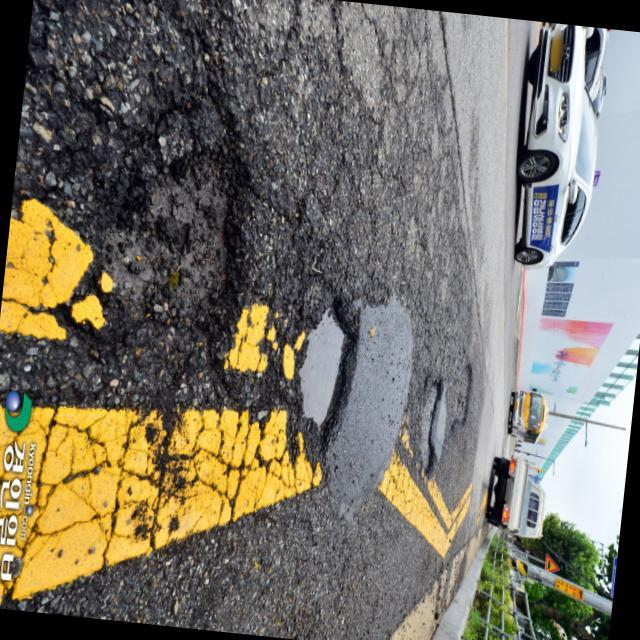pothole: (287, 268, 385, 447), (408, 367, 452, 498), (445, 359, 487, 436)
